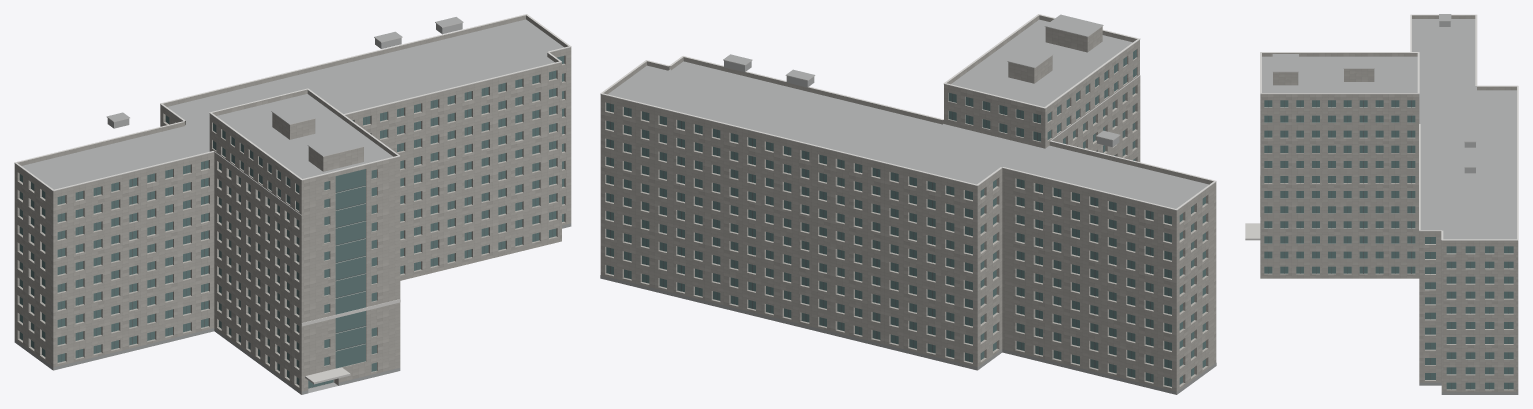
3 views of the same model, side by side, from view 1: azimuth 30°, elevation 25°; view 2: azimuth 150°, elevation 25°; view 3: azimuth 270°, elevation 25° (orthographic). The views are drawn at different scales.
Visible parts, largest first — view 1: globeeDorm__wall, globeeDorm__roof, globeeDorm__glass, globeeDorm__parapet, globeeDorm__trim, globeeDorm__frame, globeeDorm__base, globeeDorm__roofMetal; view 2: globeeDorm__wall, globeeDorm__roof, globeeDorm__glass, globeeDorm__parapet, globeeDorm__trim, globeeDorm__frame, globeeDorm__base, globeeDorm__roofMetal; view 3: globeeDorm__wall, globeeDorm__roof, globeeDorm__glass, globeeDorm__trim, globeeDorm__parapet, globeeDorm__frame, globeeDorm__base, globeeDorm__canopy.
Boxes of the visible parts, x1,y1,x2,y2 form: globeeDorm__wall: [14, 51, 571, 394]; globeeDorm__roof: [22, 17, 563, 393]; globeeDorm__glass: [19, 56, 564, 388]; globeeDorm__parapet: [14, 15, 571, 218]; globeeDorm__trim: [14, 14, 571, 326]; globeeDorm__frame: [33, 57, 558, 386]; globeeDorm__base: [14, 223, 571, 394]; globeeDorm__roofMetal: [107, 23, 462, 128]; globeeDorm__wall: [600, 26, 1216, 394]; globeeDorm__roof: [608, 14, 1208, 208]; globeeDorm__glass: [606, 49, 1205, 386]; globeeDorm__parapet: [600, 15, 1216, 214]; globeeDorm__trim: [600, 14, 1216, 210]; globeeDorm__frame: [610, 51, 1191, 385]; globeeDorm__base: [600, 275, 1216, 394]; globeeDorm__roofMetal: [724, 60, 1119, 147]; globeeDorm__wall: [1260, 69, 1518, 392]; globeeDorm__roof: [1262, 14, 1516, 239]; globeeDorm__glass: [1264, 100, 1513, 389]; globeeDorm__trim: [1260, 14, 1518, 240]; globeeDorm__parapet: [1260, 15, 1518, 243]; globeeDorm__frame: [1268, 100, 1508, 389]; globeeDorm__base: [1419, 382, 1518, 394]; globeeDorm__canopy: [1245, 223, 1260, 240].
Bounding box in the file's own units: 106 × 42.6 × 54.11.
10 materials, 2 textured.
